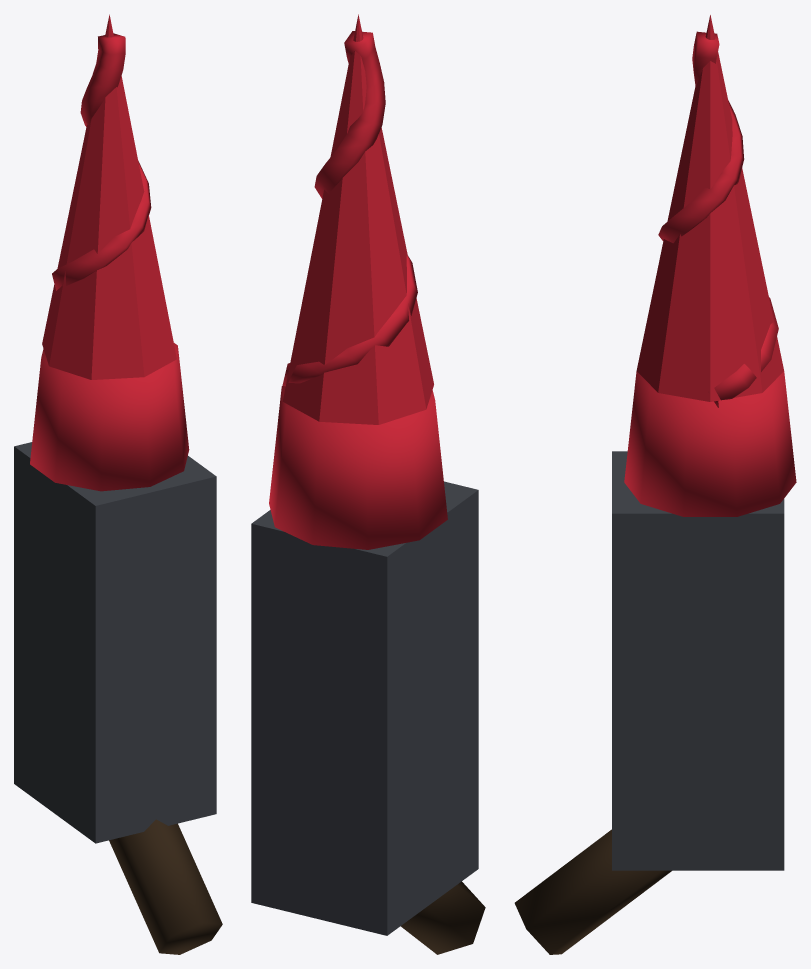
File: adamantite_drill.glb
3 renders of one model, left to right at view 1: azimuth 30°, elevation 25°; view 2: azimuth 150°, elevation 25°; view 3: azimuth 270°, elevation 25°, orthographic. The views are drawn at different scales.
Parts seen in each view (by area): view 1: adamantite_drill_v0; view 2: adamantite_drill_v0; view 3: adamantite_drill_v0.
Part boxes in pixels (x1=…): adamantite_drill_v0: x1=14, y1=14, x2=222, y2=954; adamantite_drill_v0: x1=251, y1=14, x2=485, y2=954; adamantite_drill_v0: x1=514, y1=15, x2=796, y2=954.
Bounding box in the file's own units: 0.1331 × 0.843 × 0.2292.
